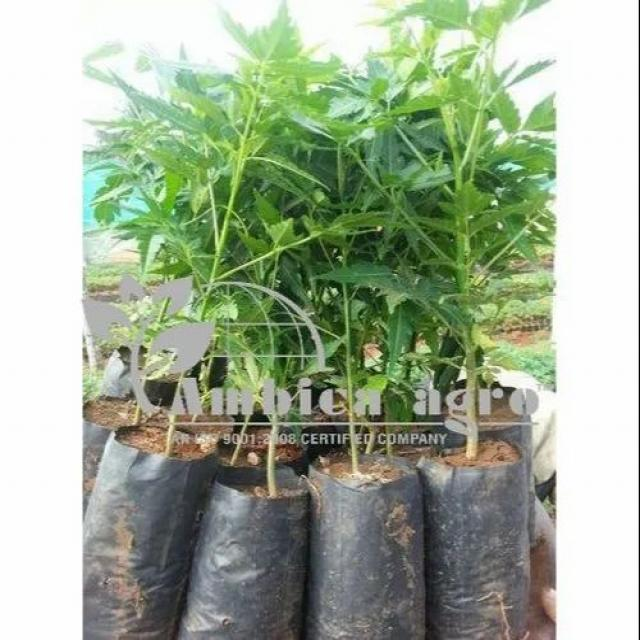Medicinal-Neem: (101, 0, 557, 362)
